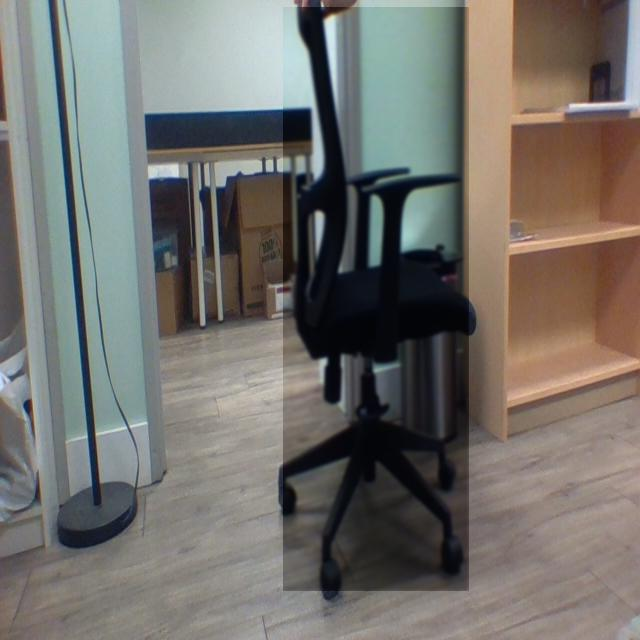black-chair: (283, 7, 470, 592)
